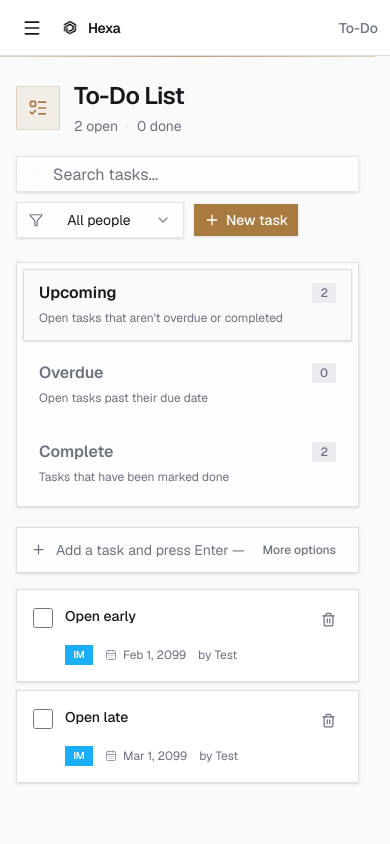
Scenario: TodoListPage › sorts tasks by earliest due date first within each section
The image size is (390, 844).
Check: the text "Open early" is shown, box [65,606,136,624]
# Complete: done tasks ordered by earliest due date.
Click the button "Complete 2 Tasks that have been marked done". click: (76, 452)
box: [23,428,352,500]
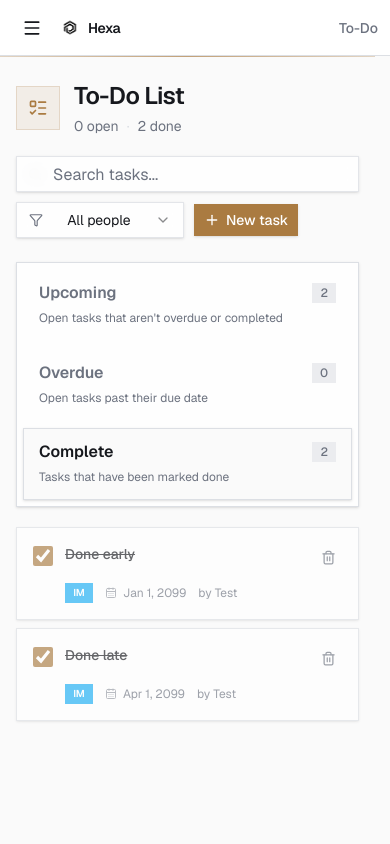
Check: the text "Done early" is shown, box [65,544,135,562]
Check: the link "Done early IM Jan 1, 2099 by Test" is shown, box [16,526,359,620]
Check: the link "Done late IM Apr 1, 2099 by Test" is shown, box [16,628,359,720]
